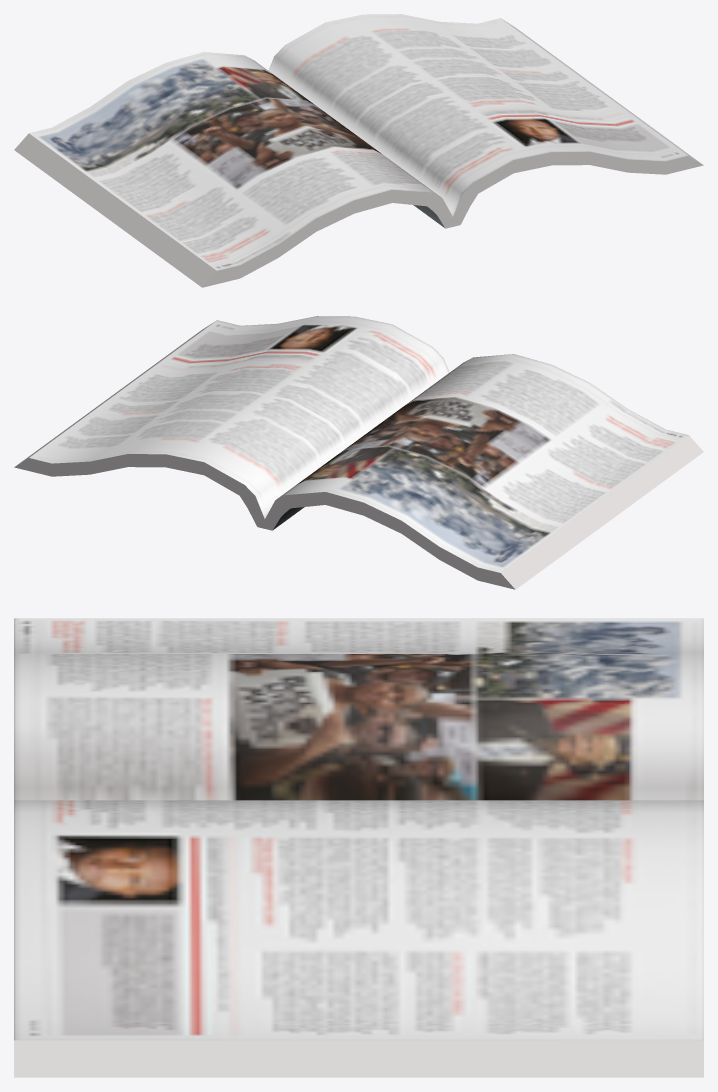
File: magazine open.FBX
The picture shows the model from 3 angles, top to bottom: view 1: azimuth 30°, elevation 25°; view 2: azimuth 150°, elevation 25°; view 3: azimuth 270°, elevation 25°; orthographic projection. The views are drawn at different scales.
Parts seen in each view (by area): view 1: magazine open; view 2: magazine open; view 3: magazine open.
Boxes of the visible parts, x1,y1,x2,y2 form: magazine open: (14,14,703,287); magazine open: (14,316,703,589); magazine open: (14,618,703,1077).
Size of the model in its own units: 20 by 13 by 1.98.
